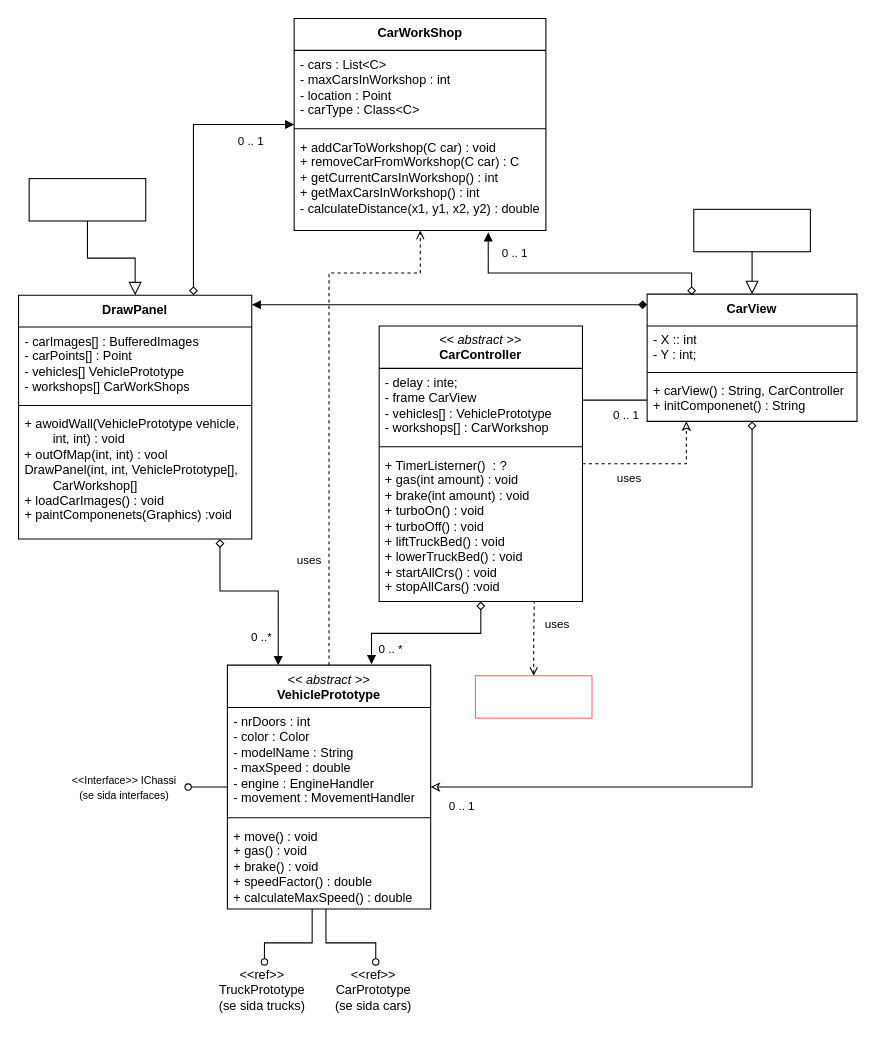
Some shapes in this 876 by 1057 pixel diagram are drawn without their labels. The centre of each missing label's shape, as x and y in pixels:
"JFrame" belongs at (x=751, y=230).
"JPanel" belongs at (x=87, y=199).
"Timer" belongs at (x=533, y=696).
